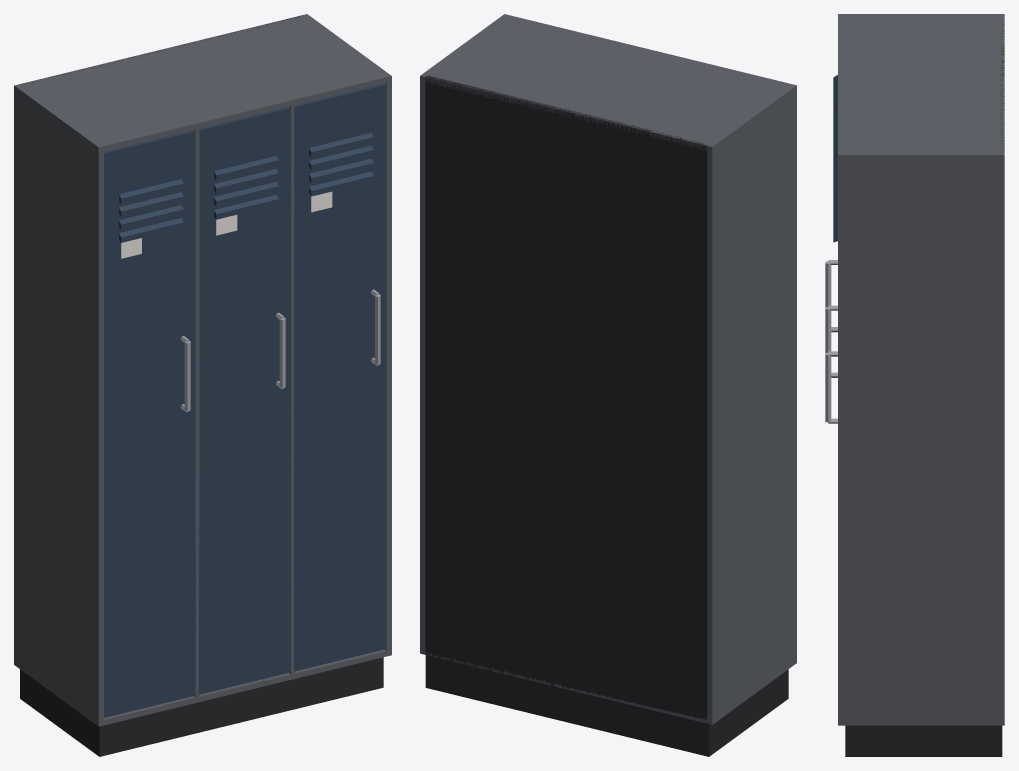
The model's file is FN_Locker_Bank.glb.
3 views of the same model, side by side, from view 1: azimuth 30°, elevation 25°; view 2: azimuth 150°, elevation 25°; view 3: azimuth 270°, elevation 25° (orthographic).
Visible parts, largest first — view 1: FN_Locker_Bank; view 2: FN_Locker_Bank; view 3: FN_Locker_Bank.
Boxes of the visible parts, <box> form: FN_Locker_Bank: <box>14,14,391,756</box>; FN_Locker_Bank: <box>420,14,796,756</box>; FN_Locker_Bank: <box>825,14,1004,756</box>.
Size of the model in its own units: 0.9 by 1.8 by 0.4838.
Materials: 1 (1 with a texture image).
